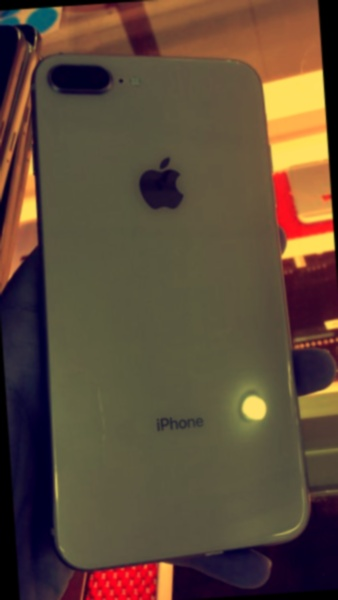iphone: (36, 48, 295, 566)
